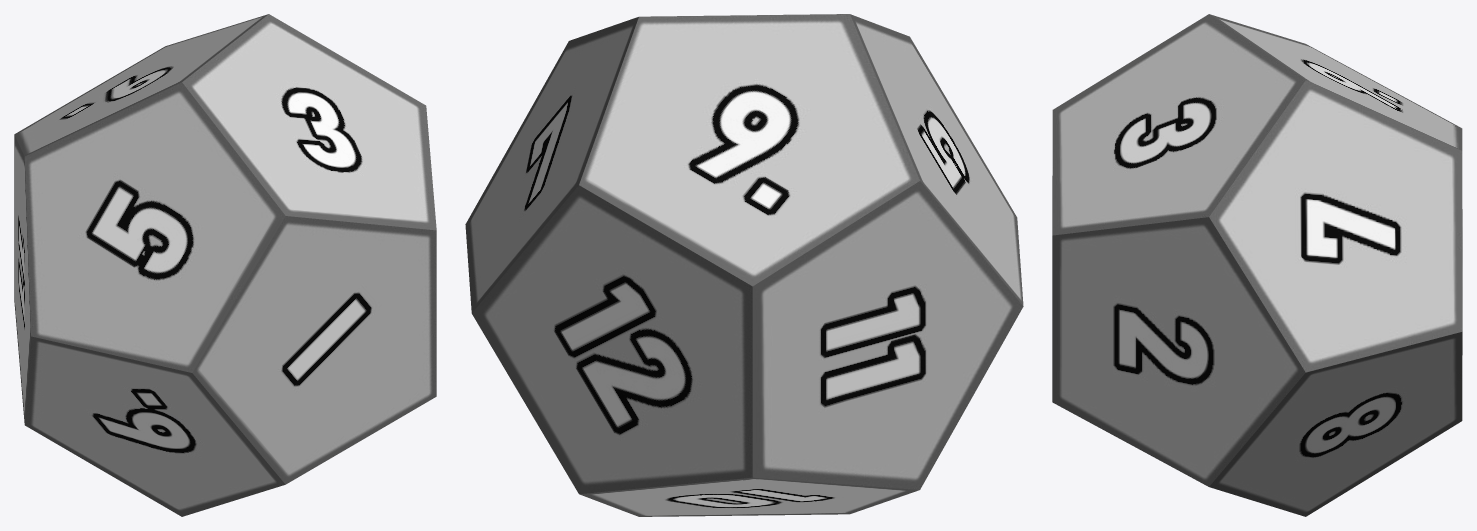
3 views of the same model, side by side, from view 1: azimuth 30°, elevation 25°; view 2: azimuth 150°, elevation 25°; view 3: azimuth 270°, elevation 25° (orthographic). The views are drawn at different scales.
Visible parts, largest first — view 1: Hedra02; view 2: Hedra02; view 3: Hedra02.
Boxes of the visible parts, <box> form: Hedra02: <box>14,14,436,516</box>; Hedra02: <box>465,14,1023,516</box>; Hedra02: <box>1052,14,1462,516</box>.
Bounding box in the file's own units: 0.3094 × 0.2942 × 0.2503.
1 material, 1 textured.
